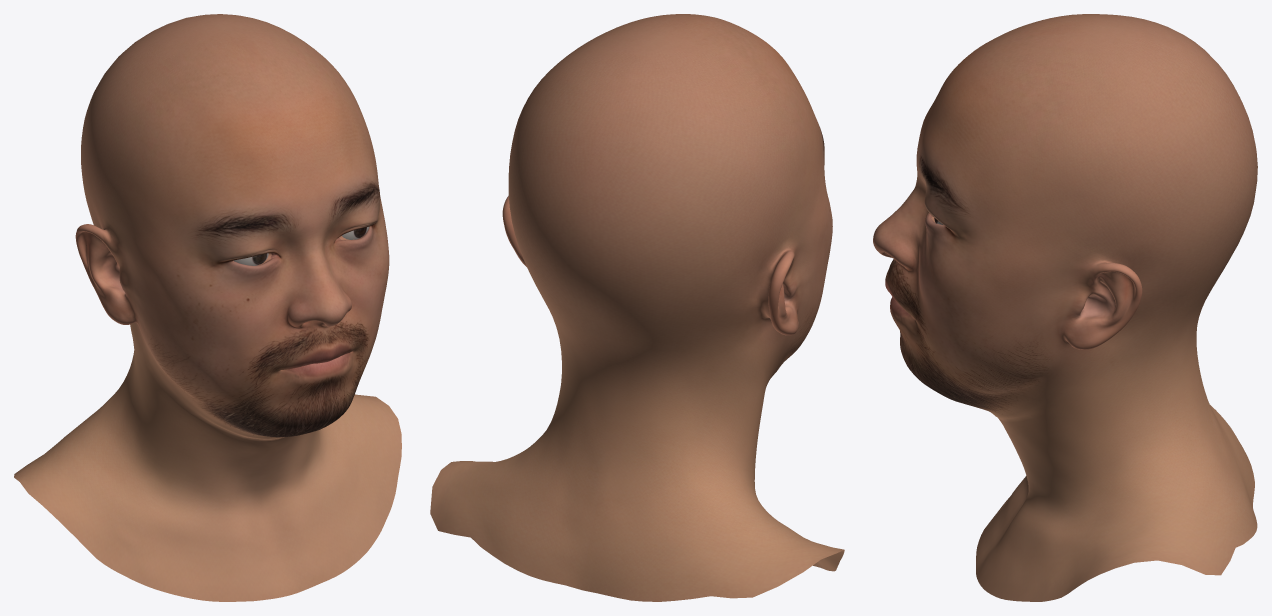
The picture shows the model from 3 angles, left to right: view 1: azimuth 30°, elevation 25°; view 2: azimuth 150°, elevation 25°; view 3: azimuth 270°, elevation 25°; orthographic projection. The views are drawn at different scales.
Parts seen in each view (by area): view 1: Registered head; view 2: Registered head; view 3: Registered head.
Part boxes in pixels (x1,y1,x2,y2): Registered head: (14,14,401,601); Registered head: (430,14,844,601); Registered head: (873,14,1257,601).
Bounding box in the file's own units: 1.31 × 1.81 × 1.17.
3 materials, 3 textured.
